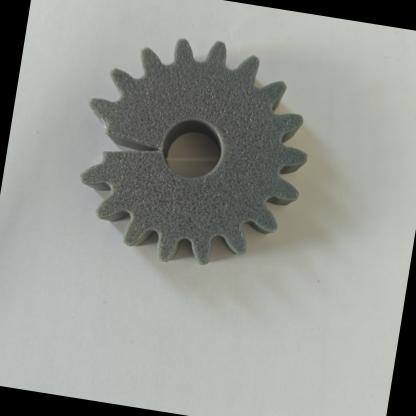defect: (56, 84, 189, 200)
gear: (37, 13, 335, 289)
